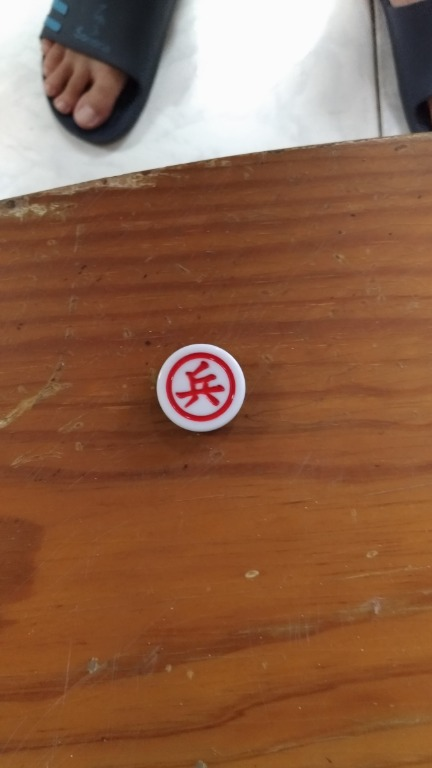r-pawn: (144, 333, 261, 443)
